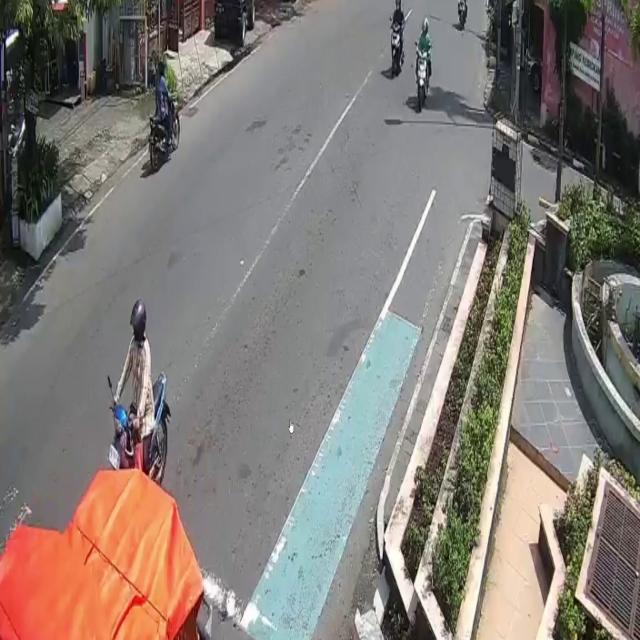bus: (109, 368, 169, 496), (149, 91, 180, 170), (388, 16, 404, 75), (417, 50, 429, 114)
